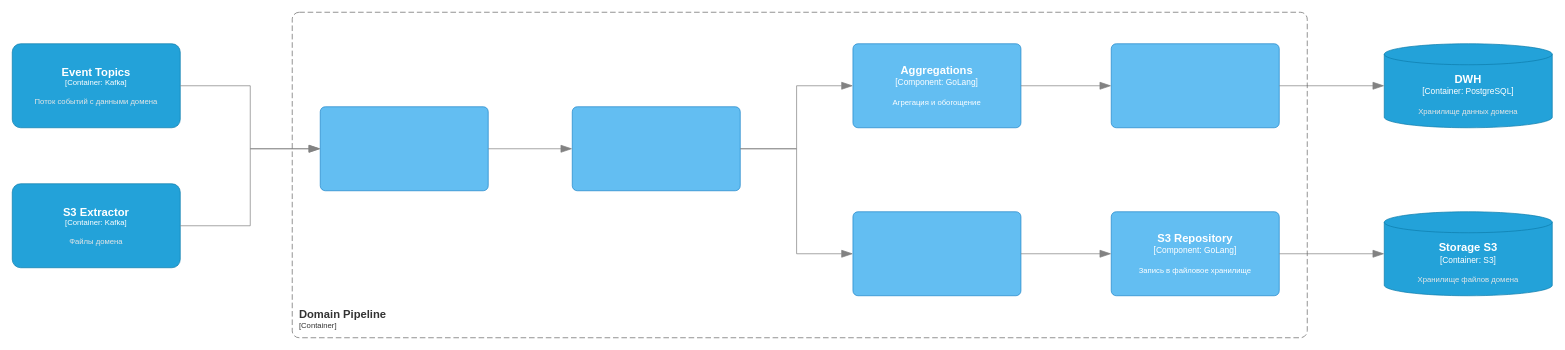
The diagram is 1565 pixels wide and 350 high, and some of its shapes have lost their labels. Each missing label, with the centre of its shape:
"DB Repository [Component: GoLang] Запись в хранилище данных" belongs at point 1195,85.
"Event Ingress [Component: GoLang] Потоковый приём событий" belongs at point 404,148.
"Repository [Component: GoLang] Запись в хранилище" belongs at point 936,253.
"Tagging [Component: GoLang] Тегирование данных" belongs at point 656,148.
